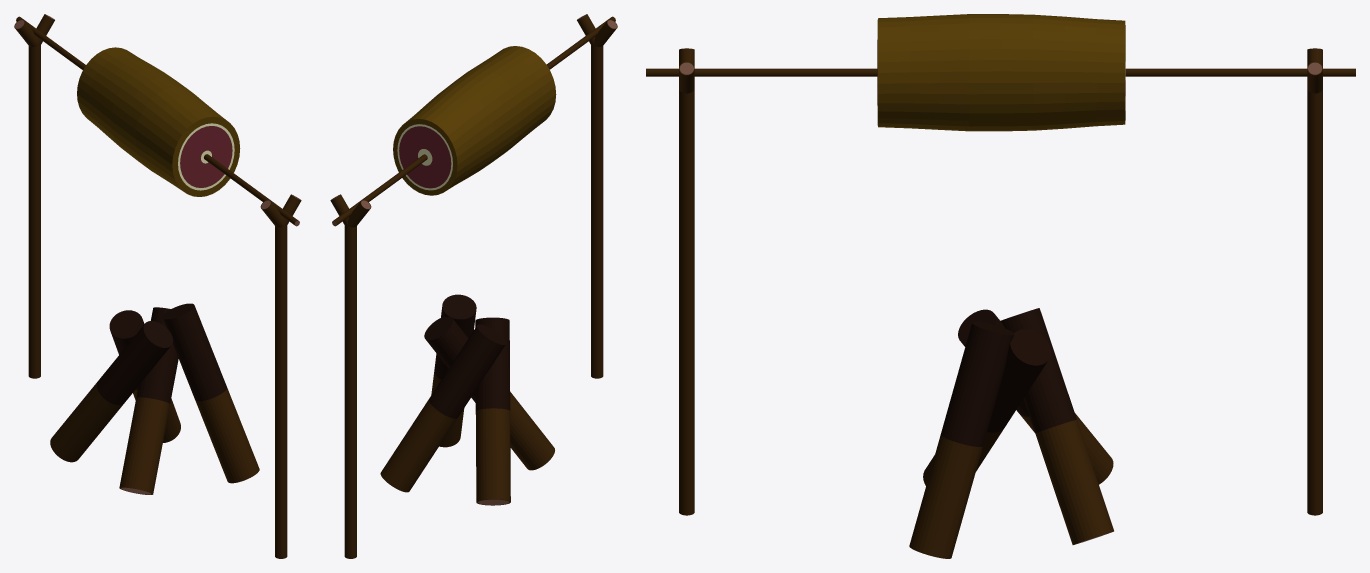
Rendered from firecamp.fbx.
The picture shows the model from 3 angles, left to right: view 1: azimuth 30°, elevation 25°; view 2: azimuth 150°, elevation 25°; view 3: azimuth 270°, elevation 25°; orthographic projection. The views are drawn at different scales.
Parts seen in each view (by area): view 1: meal, log, log.002, stick.002, stick.001, log.001, log.003, stick; view 2: meal, log.003, log.002, stick.001, stick.002, log.001, log, stick; view 3: meal, log, log.003, stick.002, stick.001, stick, log.001, log.002.
Part boxes in pixels (x1,y1,x2,y2): meal: (77, 47, 240, 196); log: (162, 303, 259, 483); log.002: (50, 321, 172, 462); stick.002: (14, 14, 54, 378); stick.001: (260, 194, 301, 558); log.001: (119, 307, 178, 494); log.003: (109, 310, 180, 442); stick: (16, 16, 299, 226); meal: (393, 46, 556, 195); log.003: (380, 324, 506, 492); log.002: (475, 317, 510, 505); stick.001: (577, 14, 617, 378); stick.002: (330, 194, 371, 558); log.001: (424, 316, 554, 470); log: (431, 294, 476, 447); stick: (332, 16, 615, 226); meal: (877, 14, 1125, 131); log: (909, 321, 1014, 558); log.003: (1000, 308, 1113, 544); stick.002: (1307, 48, 1322, 515); stick.001: (679, 48, 694, 515); stick: (646, 68, 1355, 76); log.001: (923, 329, 1050, 485); log.002: (958, 309, 1113, 484).
Bounding box in the file's own units: 134 × 355 × 452.
